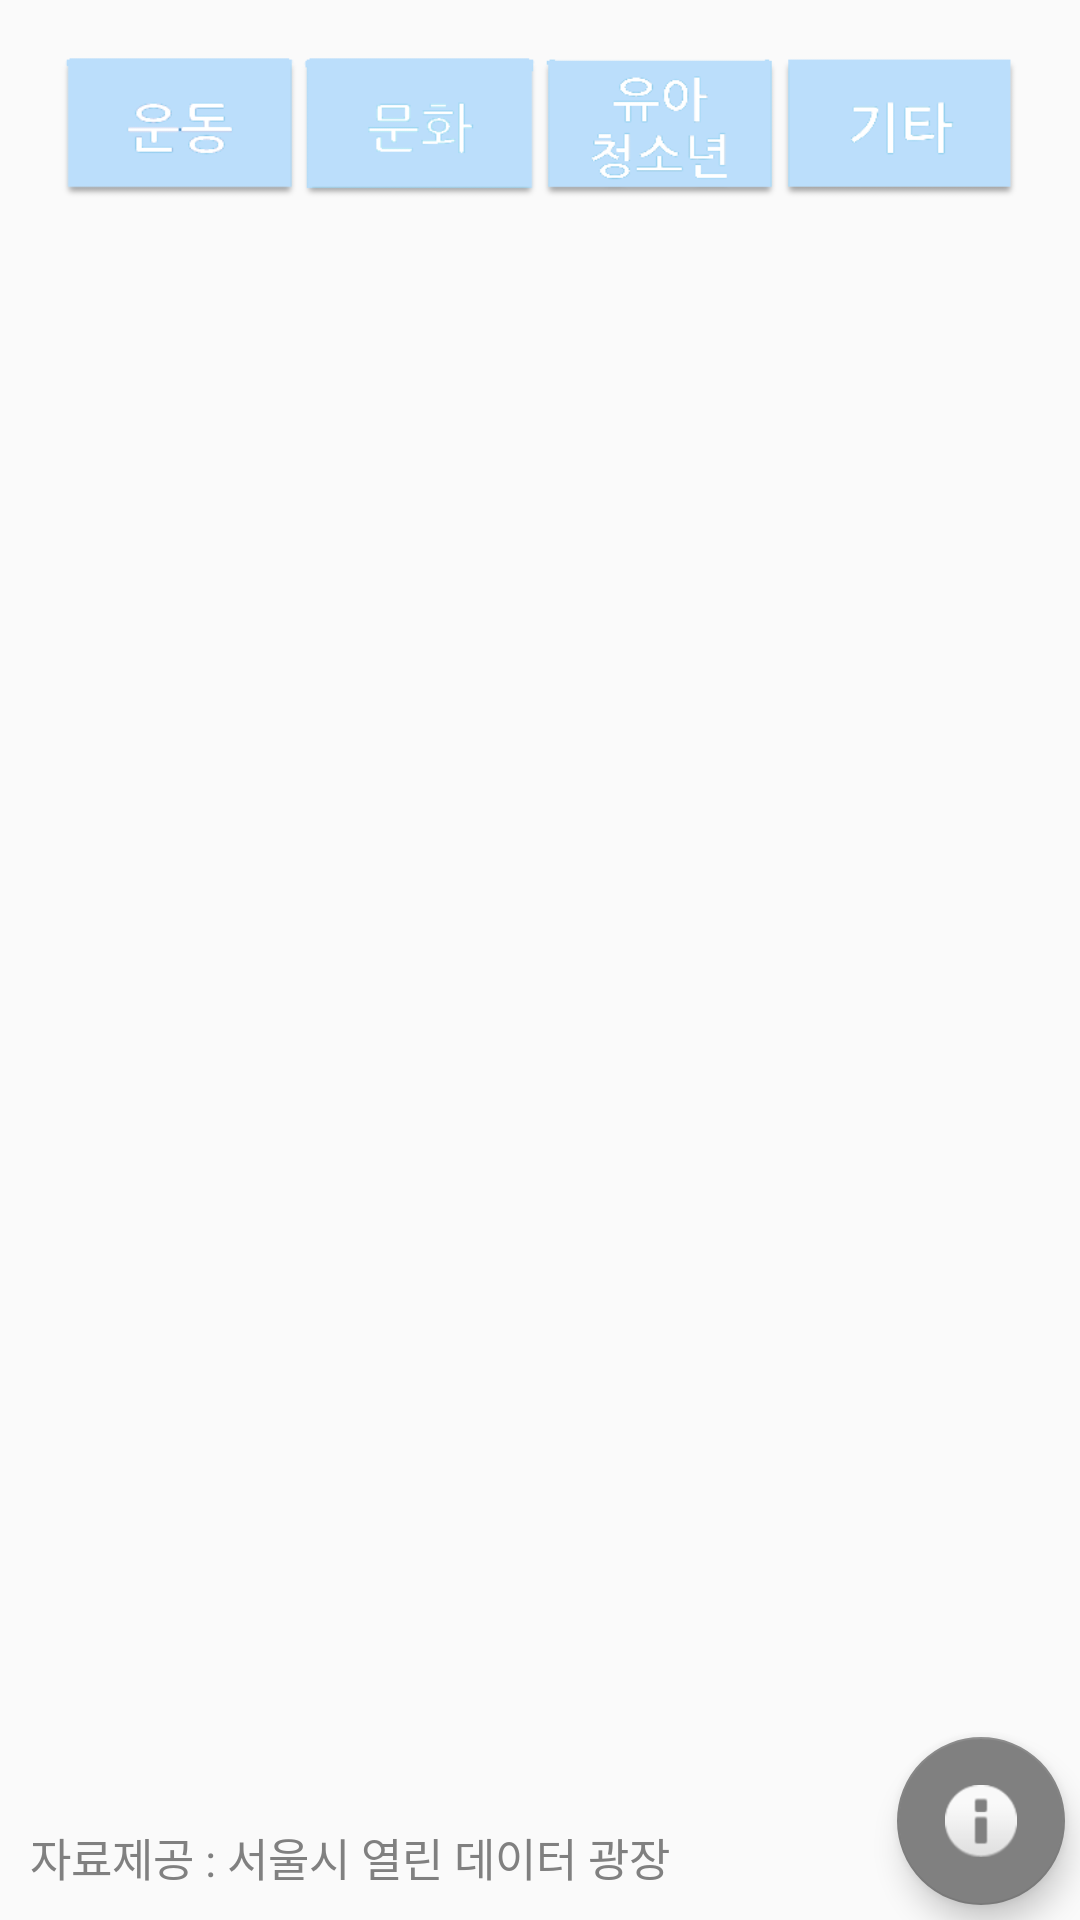

Icon click points for this 1080 × 1920 phone screenshot, format [x,y]:
info: [981,1821]
